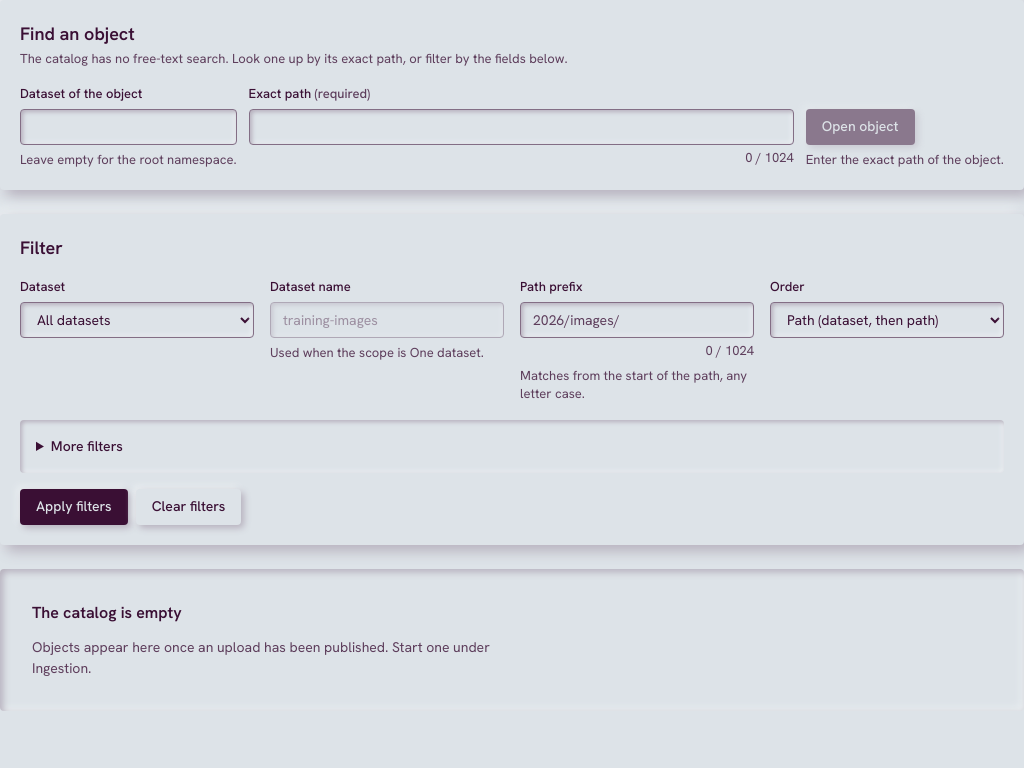
CatalogList › keeps Open object disabled until a path is typed
Check: the button "Open object" is disabled, box [806,109,914,145]
Type "a.txt" into the field labelled "Exact path (required)" at x=521, y=127, box [249,109,794,145]
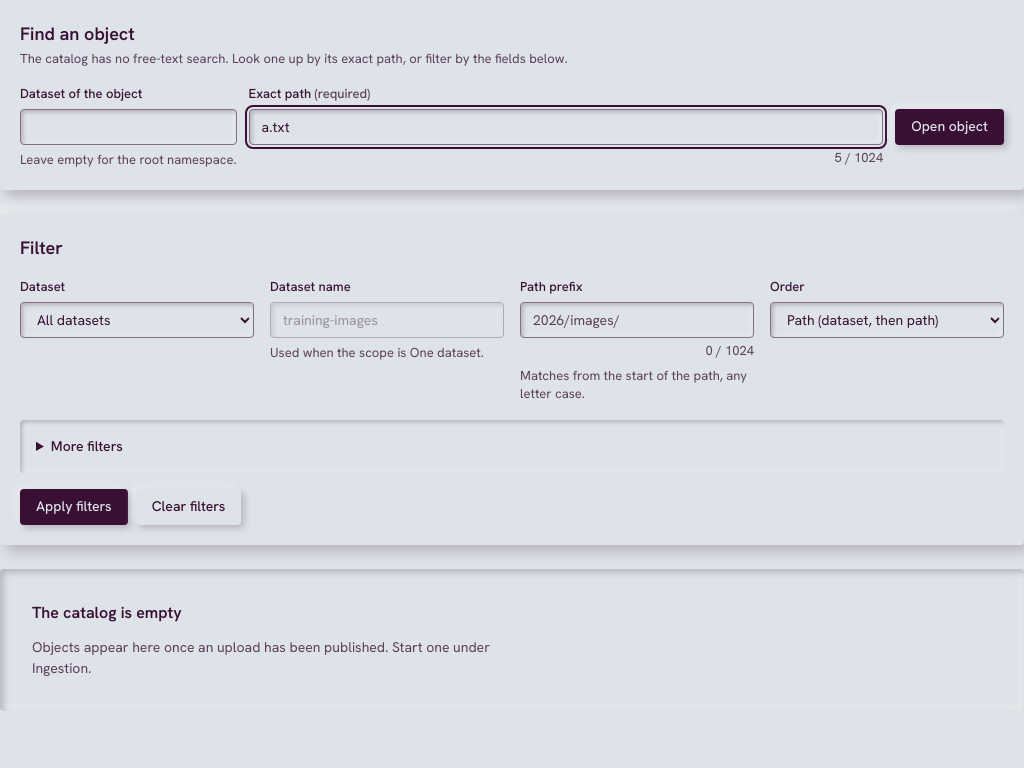
Check: the button "Open object" is enabled, box [895,109,1004,145]
